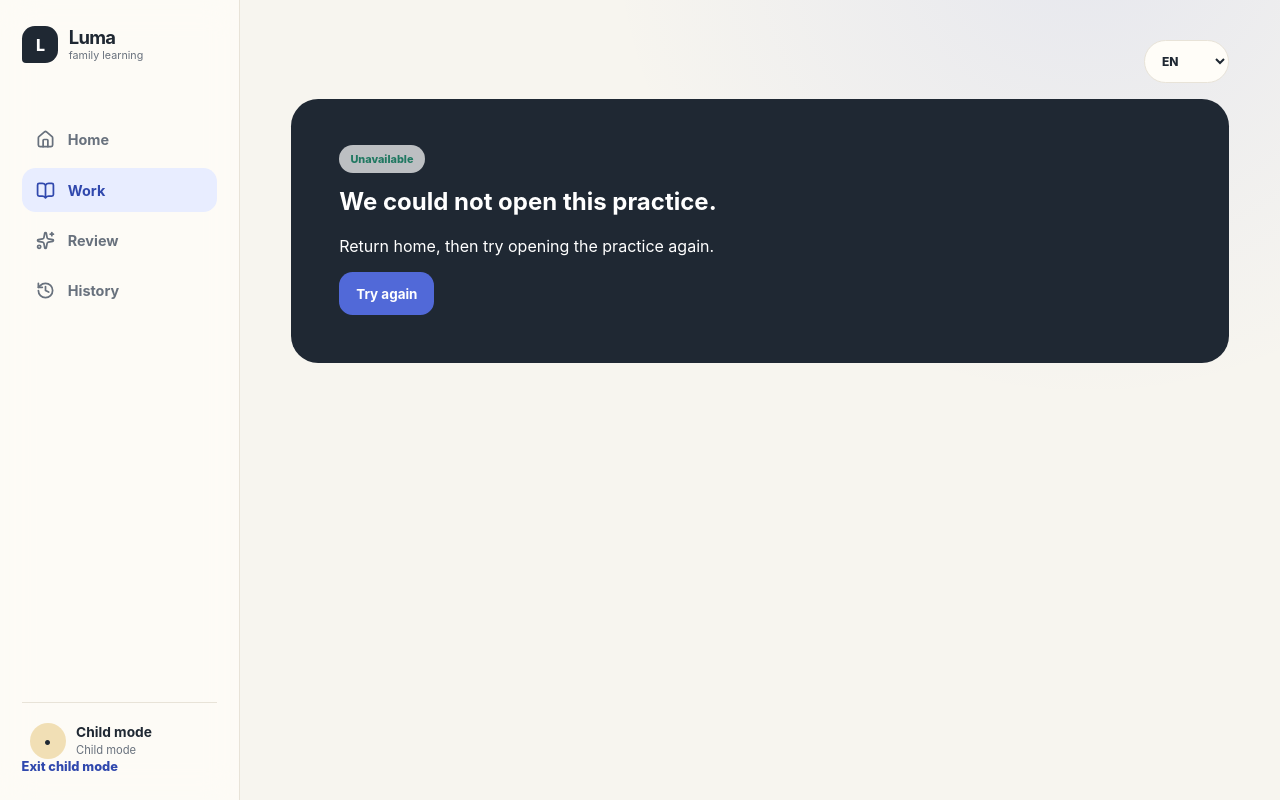
Test: WorksheetWorkbench › retries loading the assigned work after a transient request failure
Expected: the message shows "We could not open this practice.", [339,187,717,216]
What coordinates should you click on to do the following:
click the button "Try again"
I would click on:
 (387, 294)
Its box is [339,272,434,315].
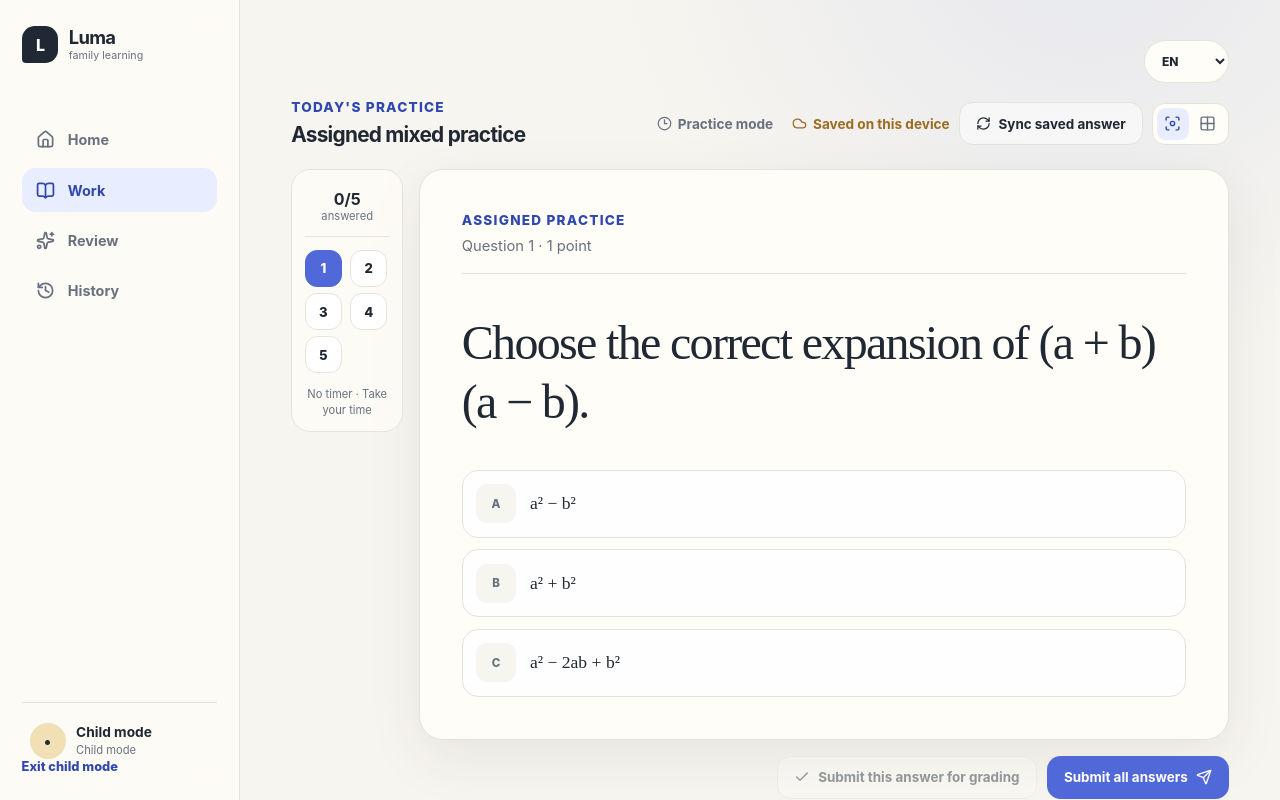
Expected: the heading "Choose the correct expansion of (a + b)(a − b)." is shown, [462,314,1186,431]
